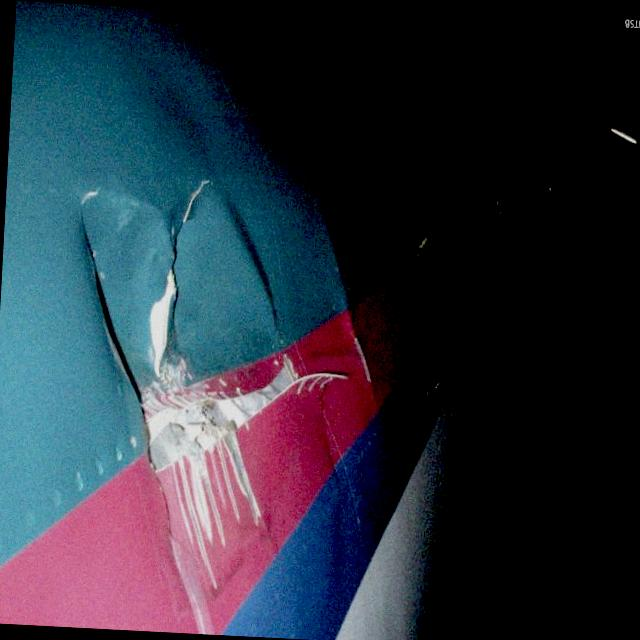crack: (146, 170, 212, 387)
